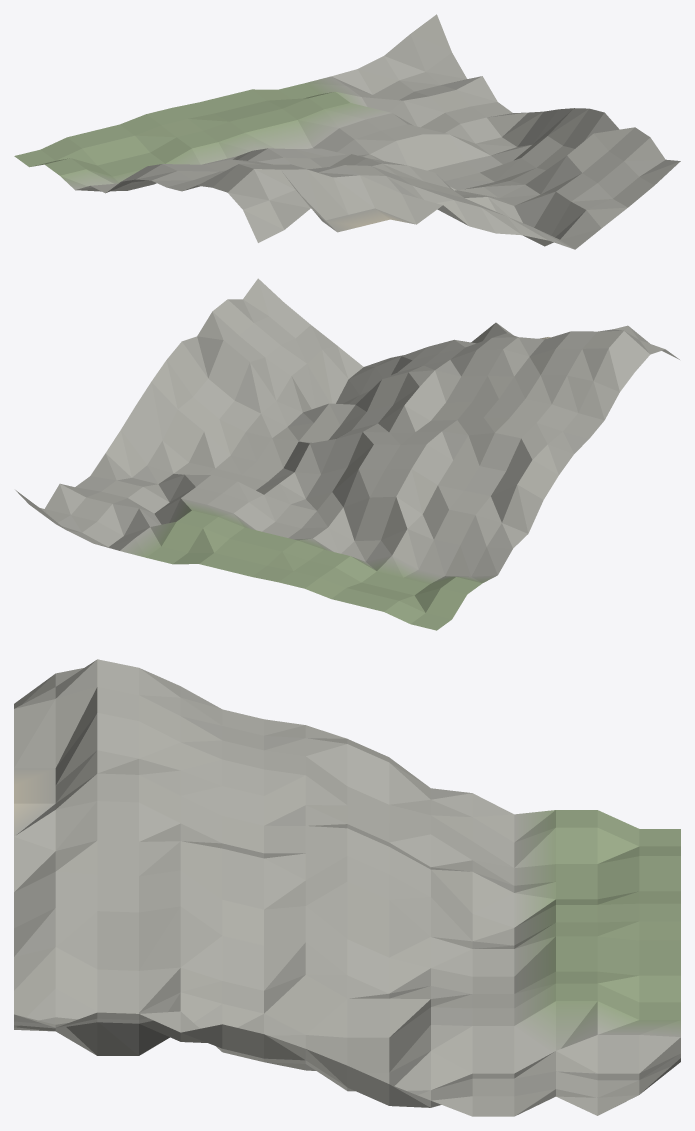
The picture shows the model from 3 angles, top to bottom: view 1: azimuth 30°, elevation 25°; view 2: azimuth 150°, elevation 25°; view 3: azimuth 270°, elevation 25°; orthographic projection. The views are drawn at different scales.
Bounding box in the file's own units: 32 × 10.74 × 32.
